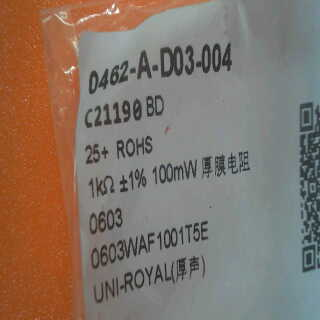1kR: (88, 171, 116, 202)
